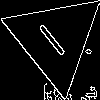I: (30, 14, 68, 58)
